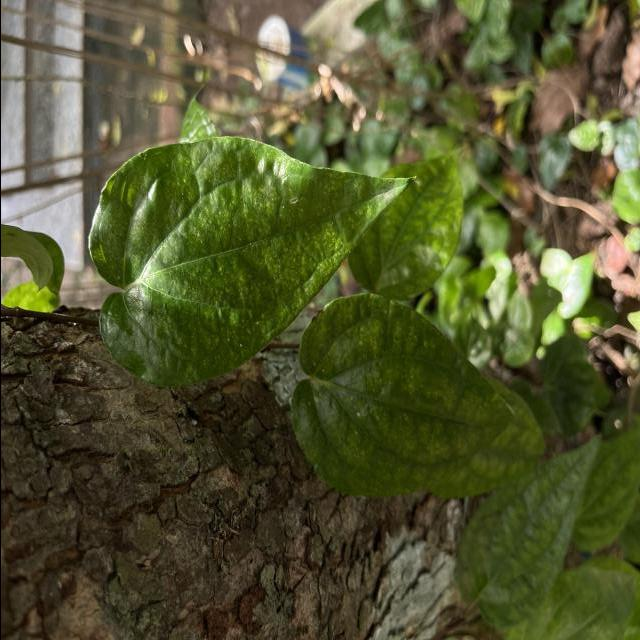Piper betle: (85, 134, 418, 389)
